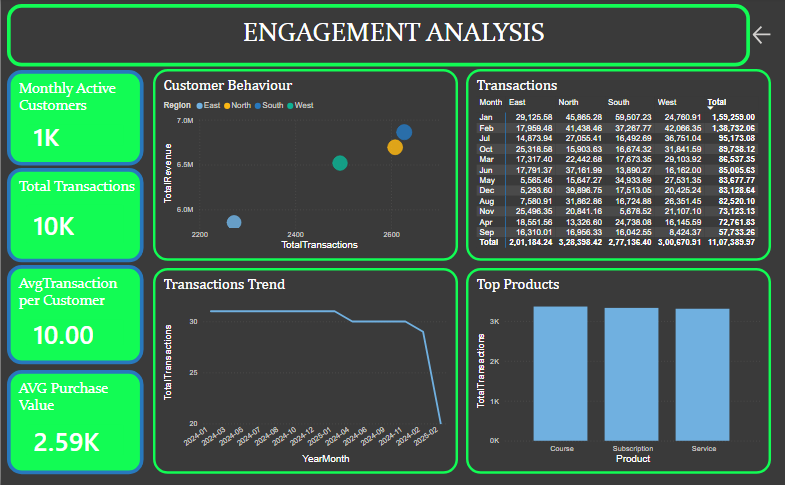

The dashboard page shown, as its layout file describes it:
{"tool":"powerbi","page":{"name":"ENGAGE ANALYSIS","canvas":[1280,800],"ordinal":3},"visuals":[{"type":"cardVisual","title":"Total Transactions","fields":{"Data":["Customer_Master.TotalTransactions"]},"box":[9.8,278.7,223,154.1],"z":0},{"type":"textbox","box":[9.8,11.5,1213.1,101.6],"z":1000},{"type":"cardVisual","title":"AvgTransaction per Customer","fields":{"Data":["Engagement.Avg Transactions per Customer"]},"box":[9.8,437.7,223,162.3],"z":2000},{"type":"cardVisual","title":"AVG Purchase Value","fields":{"Data":["Engagement.Avg Purchase Value"]},"box":[9.8,608.2,223,170.5],"z":3000},{"type":"cardVisual","title":"Monthly Active Customers","fields":{"Data":["Transactions.Monthly Active Customers"]},"box":[9.8,119.7,223,155.7],"z":4000},{"type":"scatterChart","title":"Customer Behaviour","fields":{"X":["Customer_Master.TotalTransactions"],"Y":["Customer_Master.TotalRevenue"],"Series":["Customer_Master.Region"],"Size":["Customer_Master.TotalCustomers"]},"box":[247.5,118,498.4,313.1],"z":5000},{"type":"pivotTable","title":"Transactions","fields":{"Values":["Customer_Master.TotalRevenue"],"Columns":["Customer_Master.Region"],"Rows":["DateTable.Month"]},"box":[759,118,498.4,313.1],"z":6000},{"type":"lineChart","title":"Transactions Trend","fields":{"Y":["Customer_Master.TotalTransactions"],"Category":["DateTable.YearMonth"]},"box":[247.5,442.6,498.4,336.1],"z":7000},{"type":"columnChart","title":"Top Products","fields":{"Category":["Transactions.Product"],"Y":["Customer_Master.TotalTransactions"]},"box":[759,442.6,498.4,336.1],"z":8000},{"type":"actionButton","box":[1223,42.6,57.4,39.3],"z":9000}]}

Visuals, with their boxes in screenshot pixels (x1, y1, x2, y2), scaled from the page's 1280x800 canvas onto the 785x485 screenshot:
"Total Transactions" cardVisual: pyautogui.locateOnScreen(6, 169, 143, 262)
textbox: pyautogui.locateOnScreen(6, 7, 750, 69)
"AvgTransaction per Customer" cardVisual: pyautogui.locateOnScreen(6, 265, 143, 364)
"AVG Purchase Value" cardVisual: pyautogui.locateOnScreen(6, 369, 143, 472)
"Monthly Active Customers" cardVisual: pyautogui.locateOnScreen(6, 73, 143, 167)
"Customer Behaviour" scatterChart: pyautogui.locateOnScreen(152, 72, 457, 261)
"Transactions" pivotTable: pyautogui.locateOnScreen(465, 72, 771, 261)
"Transactions Trend" lineChart: pyautogui.locateOnScreen(152, 268, 457, 472)
"Top Products" columnChart: pyautogui.locateOnScreen(465, 268, 771, 472)
actionButton: pyautogui.locateOnScreen(750, 26, 784, 50)
